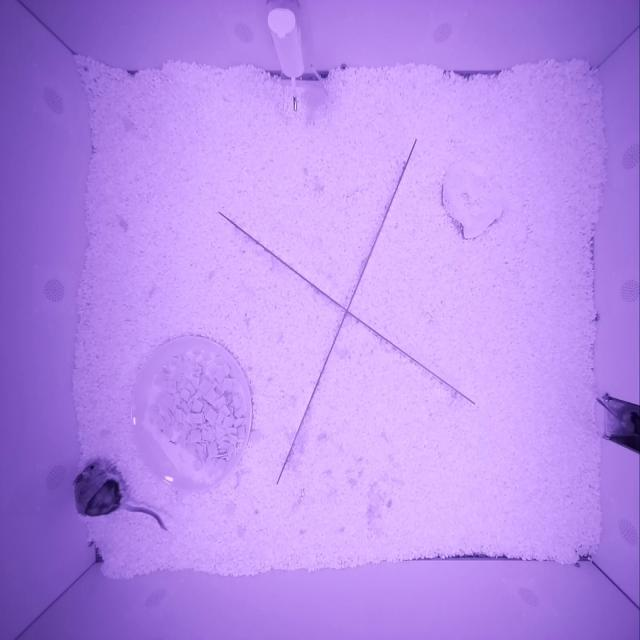adult_back: (73, 463, 129, 517)
pup_h_stripe: (620, 407, 639, 436)
